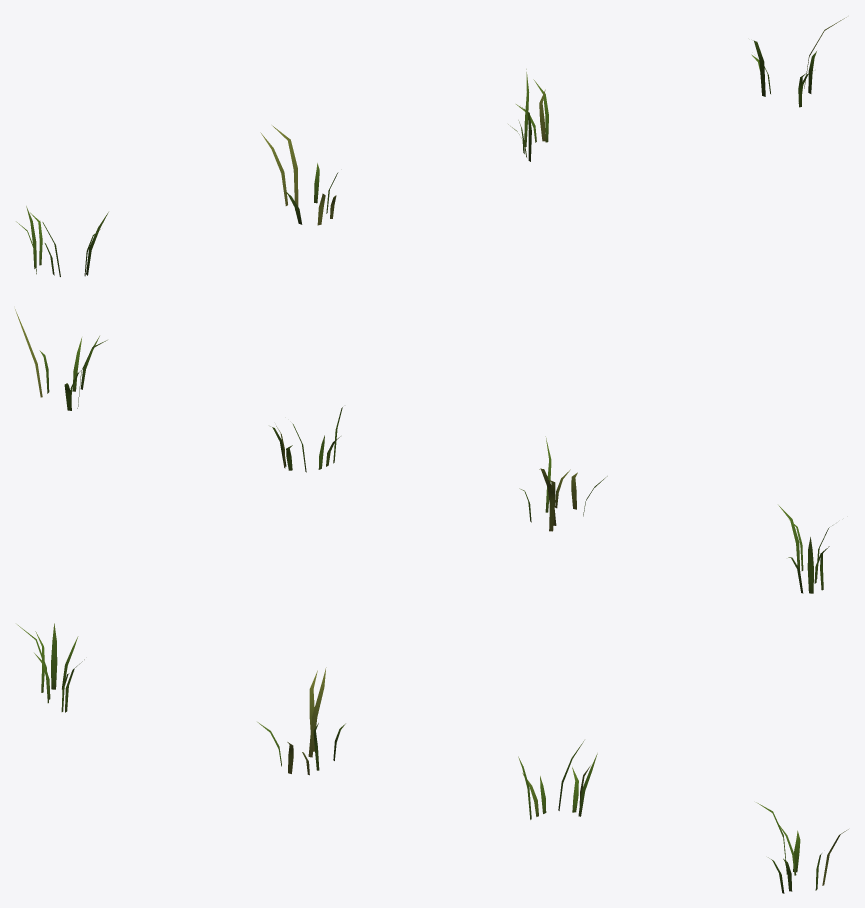
File: grass_short_lod2.glb
The picture shows the model from 3 angles, top to bottom: view 1: azimuth 30°, elevation 25°; view 2: azimuth 150°, elevation 25°; view 3: azimuth 330°, elevation 25°; orthographic projection. The views are drawn at different scales.
Parts seen in each view (by area): view 1: Grass_short_02_LOD2, Grass_short_03_LOD2, Grass_short_01_LOD2, Grass_short_04_LOD2; view 2: Grass_short_02_LOD2, Grass_short_01_LOD2, Grass_short_04_LOD2, Grass_short_03_LOD2; view 3: Grass_short_02_LOD2, Grass_short_01_LOD2, Grass_short_03_LOD2, Grass_short_04_LOD2.
Part boxes in pixels (<box>): Grass_short_02_LOD2: <box>260,125,338,225</box>; Grass_short_03_LOD2: <box>508,69,548,161</box>; Grass_short_01_LOD2: <box>16,206,108,276</box>; Grass_short_04_LOD2: <box>751,17,846,107</box>; Grass_short_02_LOD2: <box>519,436,607,531</box>; Grass_short_01_LOD2: <box>778,505,832,593</box>; Grass_short_04_LOD2: <box>15,309,107,410</box>; Grass_short_03_LOD2: <box>270,407,342,472</box>; Grass_short_02_LOD2: <box>257,667,345,775</box>; Grass_short_01_LOD2: <box>17,623,84,712</box>; Grass_short_03_LOD2: <box>518,740,597,819</box>; Grass_short_04_LOD2: <box>756,802,848,893</box>.
Bounding box in the file's own units: 2.91 × 0.2466 × 0.3447.
1 material, 1 textured.
